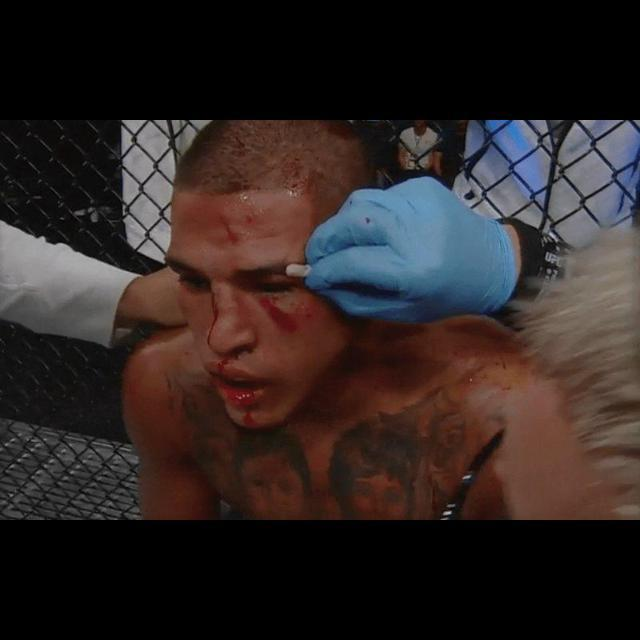blood: (207, 339, 265, 428), (200, 204, 251, 253), (260, 295, 320, 332), (206, 292, 219, 347)
